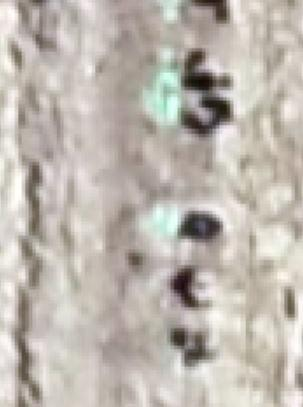cotton: (146, 91, 177, 117), (150, 214, 176, 238), (154, 73, 183, 91), (161, 47, 178, 69), (165, 1, 181, 22)
